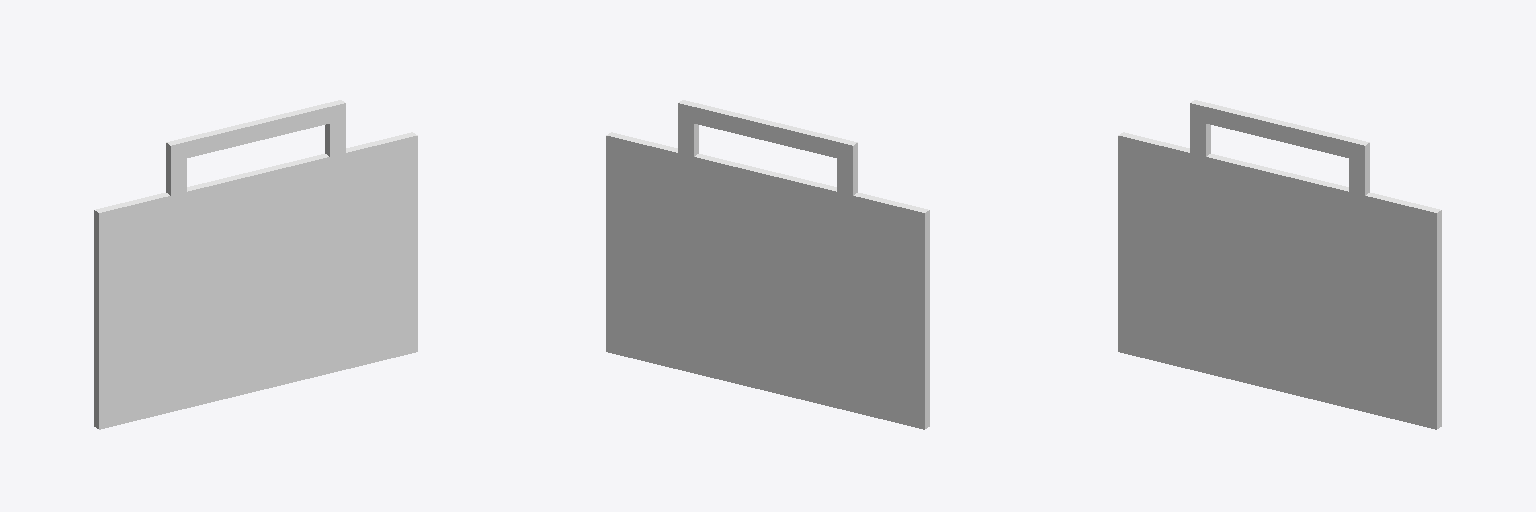
The model's file is MedBagIcon.obj.
3 renders of one model, left to right at view 1: azimuth 30°, elevation 25°; view 2: azimuth 150°, elevation 25°; view 3: azimuth 330°, elevation 25°, orthographic.
Visible parts, largest first — view 1: object 1; view 2: object 1; view 3: object 1.
Boxes of the visible parts, x1,y1,x2,y2 form: object 1: [94, 100, 417, 429]; object 1: [606, 100, 929, 429]; object 1: [1118, 100, 1441, 429].
Bounding box in the file's own units: 4 × 3.2 × 0.1.